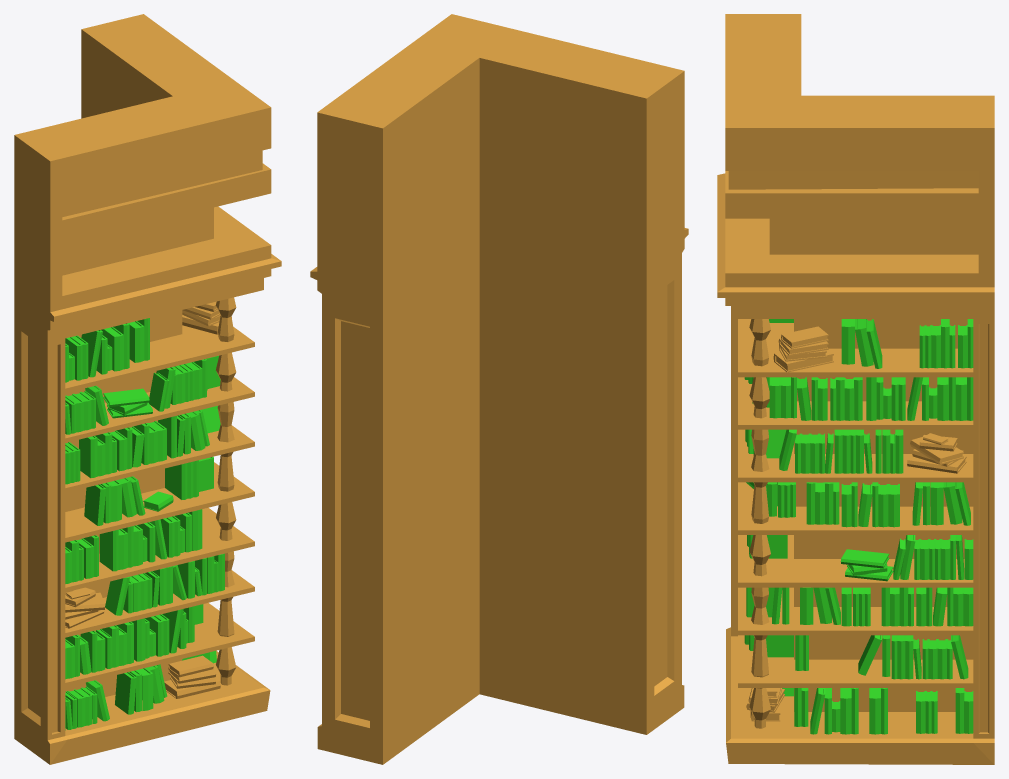
Rendered from SM_Bookcase_Tall_Modular_Filled_Corner_Outer.fbx.
3 renders of one model, left to right at view 1: azimuth 30°, elevation 25°; view 2: azimuth 150°, elevation 25°; view 3: azimuth 270°, elevation 25°, orthographic. The views are drawn at different scales.
Visible parts, largest first — view 1: bookcase-tall-modular-filled-corner-outer; view 2: bookcase-tall-modular-filled-corner-outer; view 3: bookcase-tall-modular-filled-corner-outer.
Part boxes in pixels (x1,y1,x2,y2): bookcase-tall-modular-filled-corner-outer: [14, 14, 281, 764]; bookcase-tall-modular-filled-corner-outer: [310, 14, 688, 764]; bookcase-tall-modular-filled-corner-outer: [717, 14, 994, 764].
Bounding box in the file's own units: 1.58 × 4 × 1.58.
